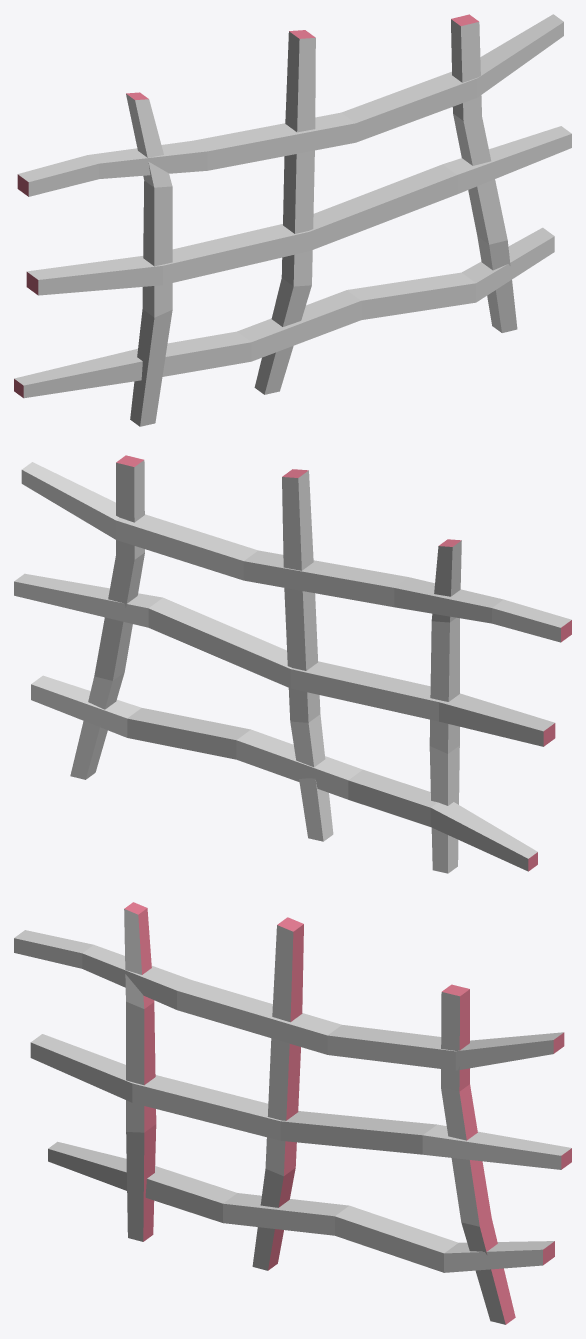
File: fence.fbx
The picture shows the model from 3 angles, top to bottom: view 1: azimuth 30°, elevation 25°; view 2: azimuth 150°, elevation 25°; view 3: azimuth 330°, elevation 25°; orthographic projection.
Parts seen in each view (by area): view 1: Cube; view 2: Cube; view 3: Cube.
Part boxes in pixels (box(x1,y1,x2,y2)): Cube: box(14, 14, 571, 426); Cube: box(14, 455, 571, 873); Cube: box(14, 902, 571, 1324).
Size of the model in its own units: 1126 by 700 by 140.
